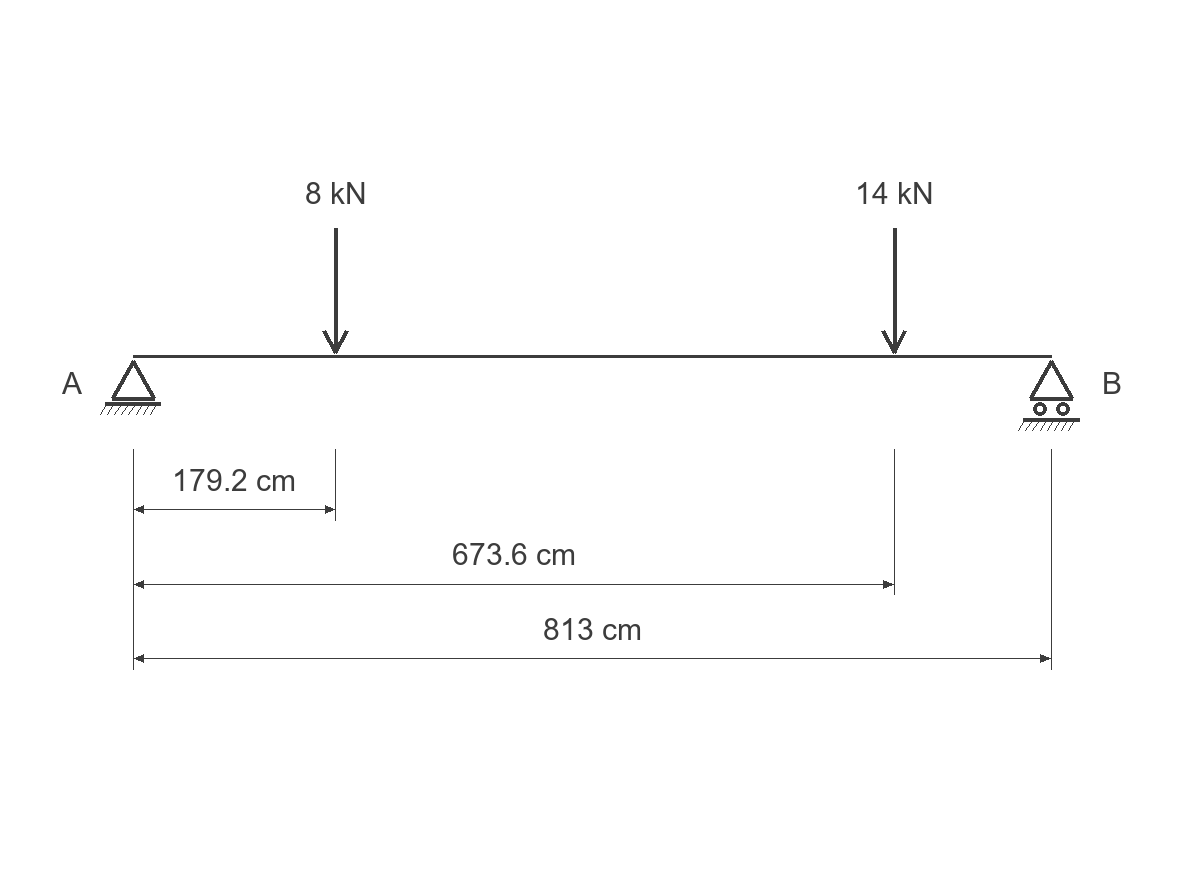pin_support: (100, 360, 161, 415)
point_load: (322, 228, 349, 354), (881, 228, 907, 354)
roller_support: (1018, 360, 1080, 431)
